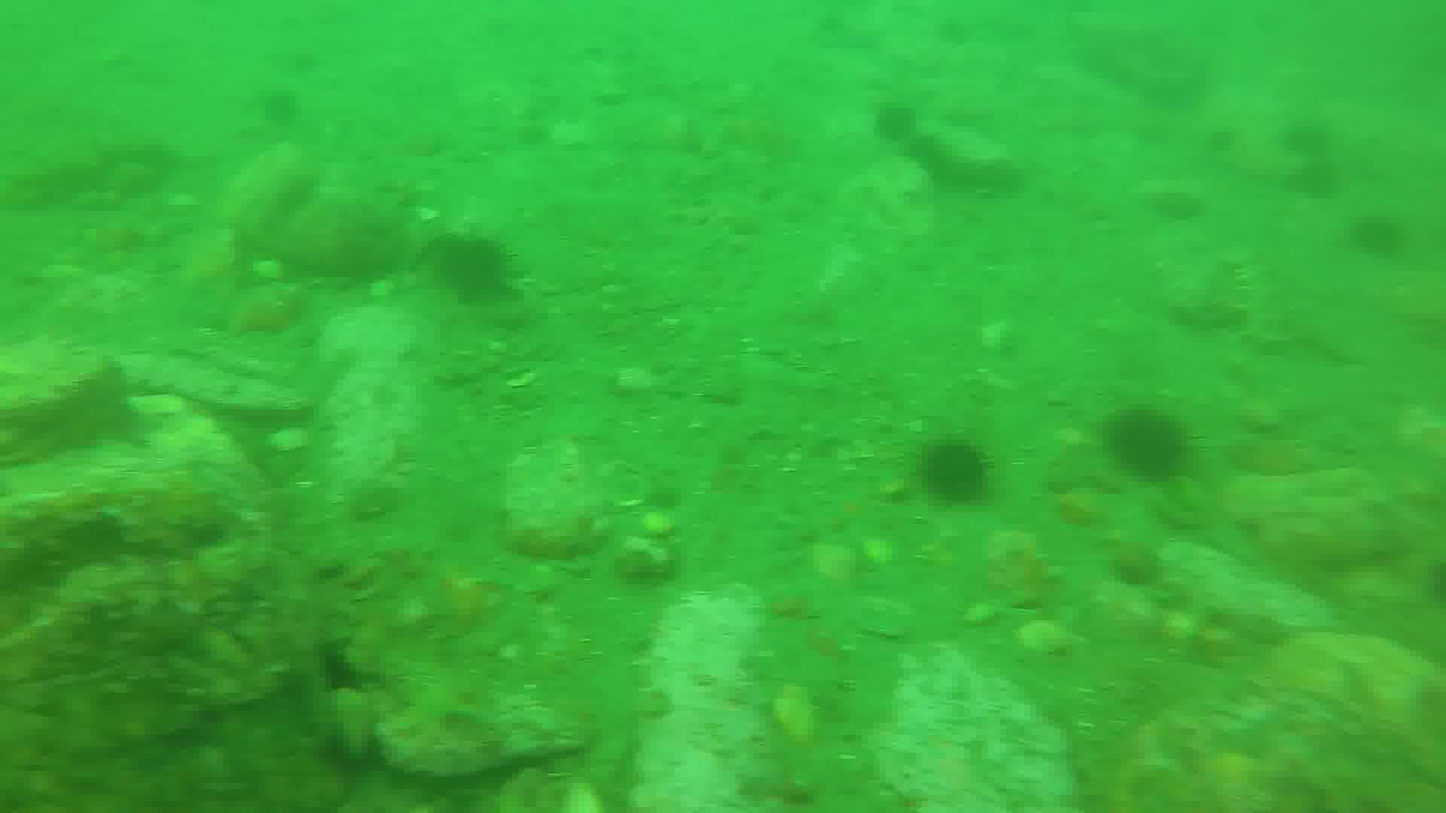echinus: (1234, 230, 1304, 349)
starfish: (1109, 408, 1192, 481), (433, 234, 517, 305), (919, 435, 991, 507), (1278, 120, 1338, 172), (1354, 208, 1403, 266), (1297, 166, 1356, 202), (877, 104, 915, 151)
